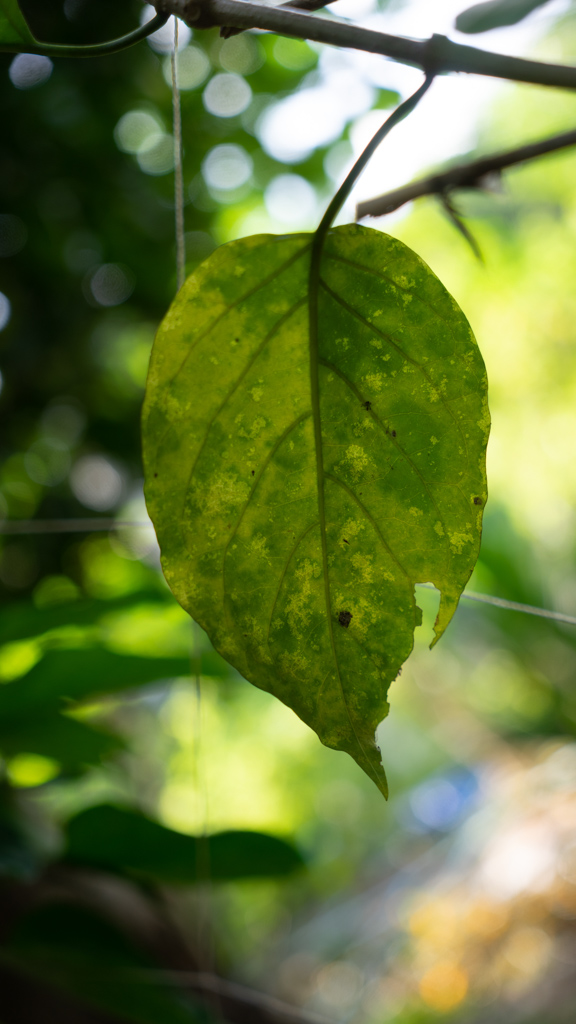Pepper yellow leaf: (134, 234, 489, 792)
